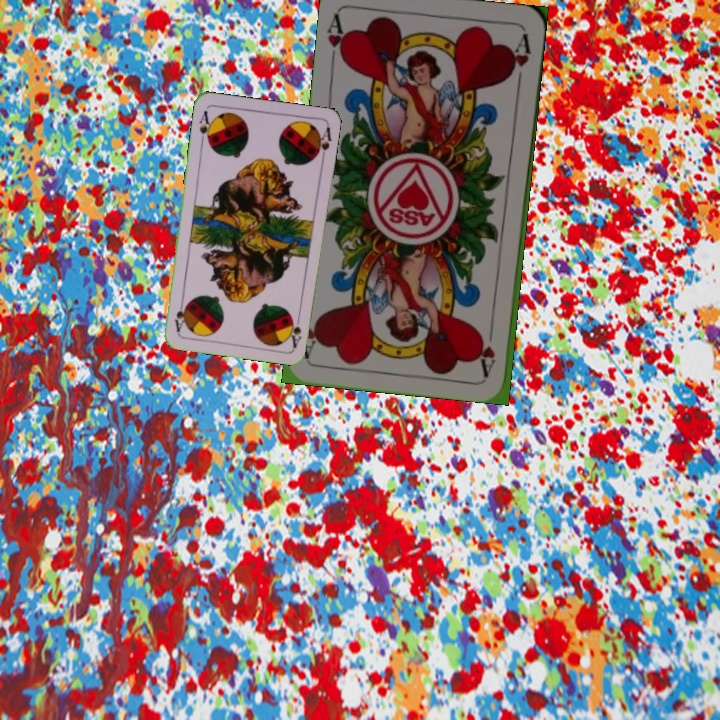HA: (323, 11, 351, 70), (477, 318, 499, 377)
SA: (195, 107, 215, 147), (287, 309, 304, 350)
